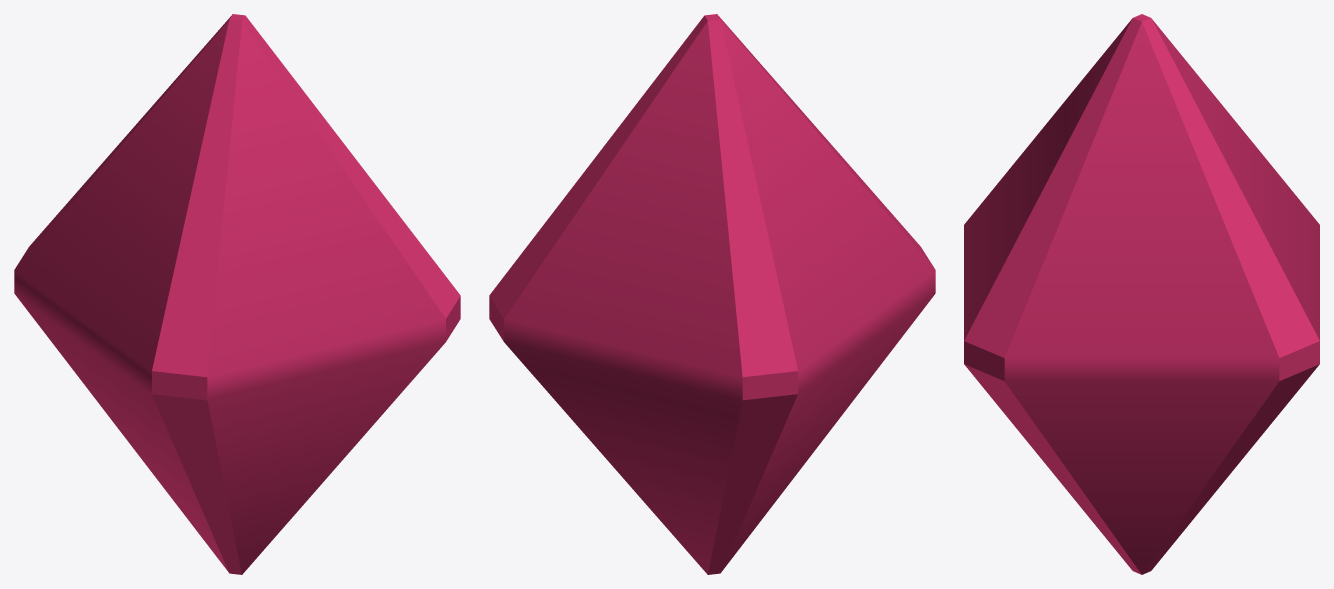
Rendered from Gem_Pink.glb.
The picture shows the model from 3 angles, left to right: view 1: azimuth 30°, elevation 25°; view 2: azimuth 150°, elevation 25°; view 3: azimuth 270°, elevation 25°; orthographic projection.
Visible parts, largest first — view 1: UI_Gem_Pink; view 2: UI_Gem_Pink; view 3: UI_Gem_Pink.
Boxes of the visible parts, left/top/right/bottom form: UI_Gem_Pink: left=14, top=14, right=460, bottom=574; UI_Gem_Pink: left=489, top=14, right=935, bottom=574; UI_Gem_Pink: left=964, top=14, right=1319, bottom=574.
Size of the model in its own units: 0.4229 by 0.7251 by 0.4229.
1 material, 1 textured.
